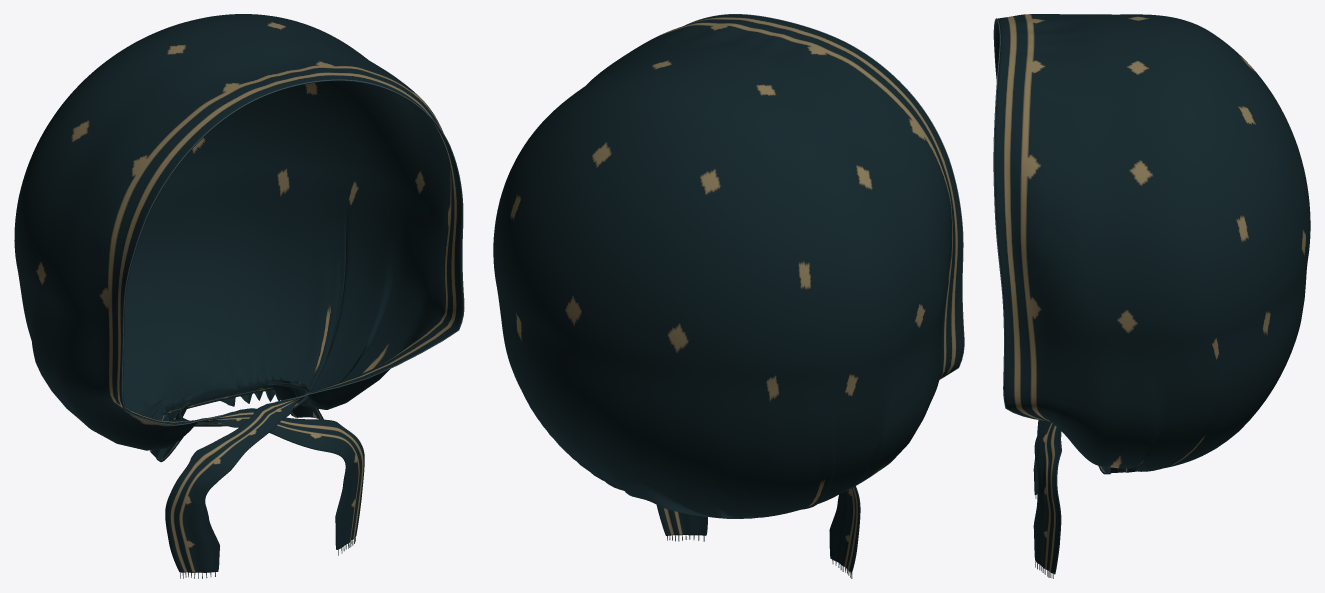
Rendered from Masculine-middle-part-sweatshirt-pashmina250-headgear.glb.
3 renders of one model, left to right at view 1: azimuth 30°, elevation 25°; view 2: azimuth 150°, elevation 25°; view 3: azimuth 270°, elevation 25°, orthographic. The views are drawn at different scales.
Parts seen in each view (by area): view 1: 226 headgear / Headwear / continuous woven pashmina239, 226 headgear / Headwear / face edge239; view 2: 226 headgear / Headwear / continuous woven pashmina239, 226 headgear / Headwear / face edge239; view 3: 226 headgear / Headwear / continuous woven pashmina239, 226 headgear / Headwear / face edge239.
Boxes of the visible parts, x1,y1,x2,y2 form: 226 headgear / Headwear / continuous woven pashmina239: [14, 14, 463, 572]; 226 headgear / Headwear / face edge239: [121, 79, 464, 425]; 226 headgear / Headwear / continuous woven pashmina239: [493, 14, 963, 572]; 226 headgear / Headwear / face edge239: [685, 14, 964, 379]; 226 headgear / Headwear / continuous woven pashmina239: [994, 14, 1310, 574]; 226 headgear / Headwear / face edge239: [993, 18, 1039, 419].
Bounding box in the file's own units: 1.1 × 1.39 × 0.7949.
Materials: 3 (1 with a texture image).
